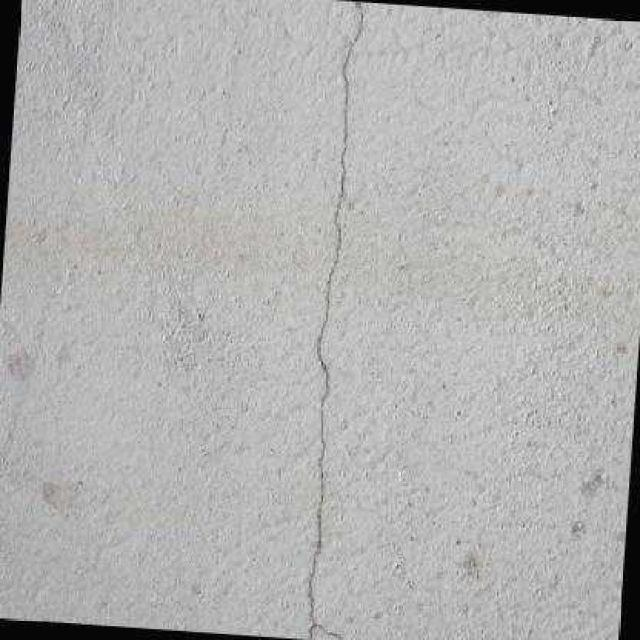D00: (303, 1, 364, 640)
